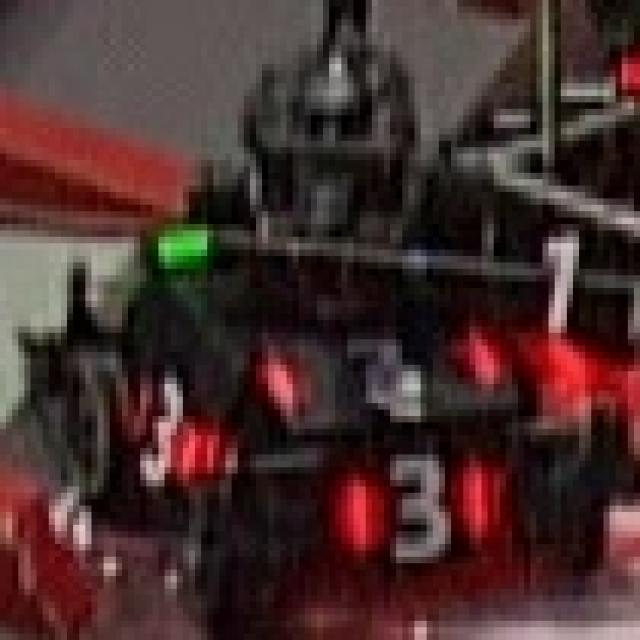R3: (335, 448, 488, 557), (128, 365, 207, 493)
